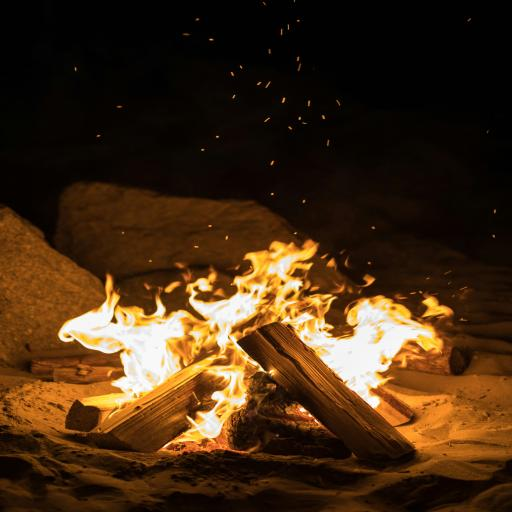campfire: (27, 219, 512, 486)
